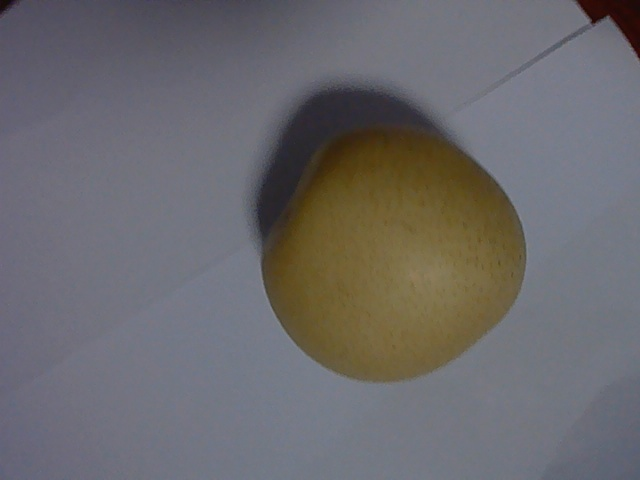pear: (269, 130, 524, 387)
